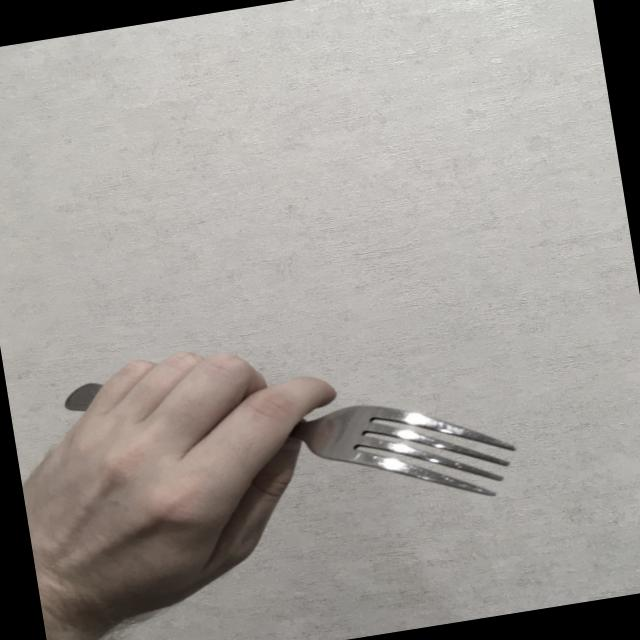fork: (61, 316, 524, 566)
